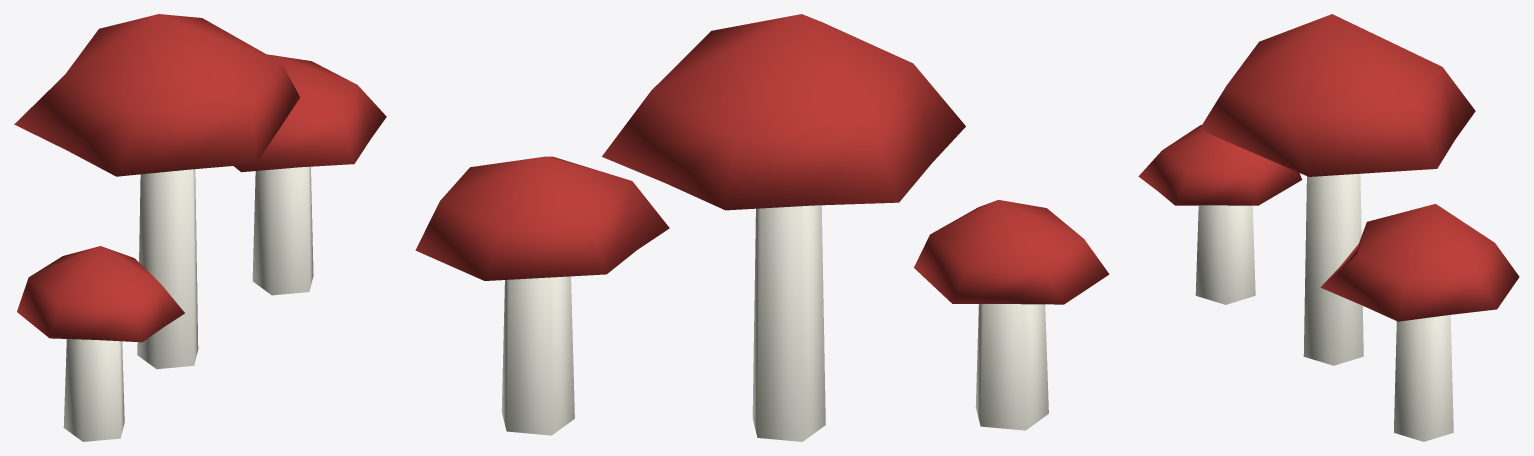
Rendered from devilstrand.obj.
The picture shows the model from 3 angles, left to right: view 1: azimuth 30°, elevation 25°; view 2: azimuth 150°, elevation 25°; view 3: azimuth 270°, elevation 25°; orthographic projection. The views are drawn at different scales.
Parts seen in each view (by area): view 1: source_component_001, source_component_005, source_component_000, source_component_003, source_component_002, source_component_004; view 2: source_component_001, source_component_003, source_component_000, source_component_005, source_component_002, source_component_004; view 3: source_component_001, source_component_003, source_component_000, source_component_005, source_component_002, source_component_004.
Boxes of the visible parts, x1=… form: source_component_001: x1=14, y1=14, x2=299, y2=176; source_component_005: x1=17, y1=246, x2=184, y2=342; source_component_000: x1=137, y1=169, x2=198, y2=369; source_component_003: x1=234, y1=54, x2=386, y2=172; source_component_002: x1=252, y1=166, x2=313, y2=295; source_component_004: x1=63, y1=339, x2=124, y2=441; source_component_001: x1=602, y1=14, x2=965, y2=210; source_component_003: x1=415, y1=156, x2=669, y2=280; source_component_000: x1=752, y1=205, x2=825, y2=441; source_component_005: x1=914, y1=200, x2=1109, y2=304; source_component_002: x1=501, y1=276, x2=574, y2=435; source_component_004: x1=975, y1=304, x2=1048, y2=430; source_component_001: x1=1199, y1=14, x2=1475, y2=176; source_component_003: x1=1320, y1=204, x2=1519, y2=321; source_component_000: x1=1303, y1=173, x2=1363, y2=365; source_component_005: x1=1138, y1=125, x2=1301, y2=205; source_component_002: x1=1394, y1=315, x2=1453, y2=441; source_component_004: x1=1195, y1=205, x2=1255, y2=304.
Size of the model in its own units: 0.5491 by 0.408 by 0.4234.
